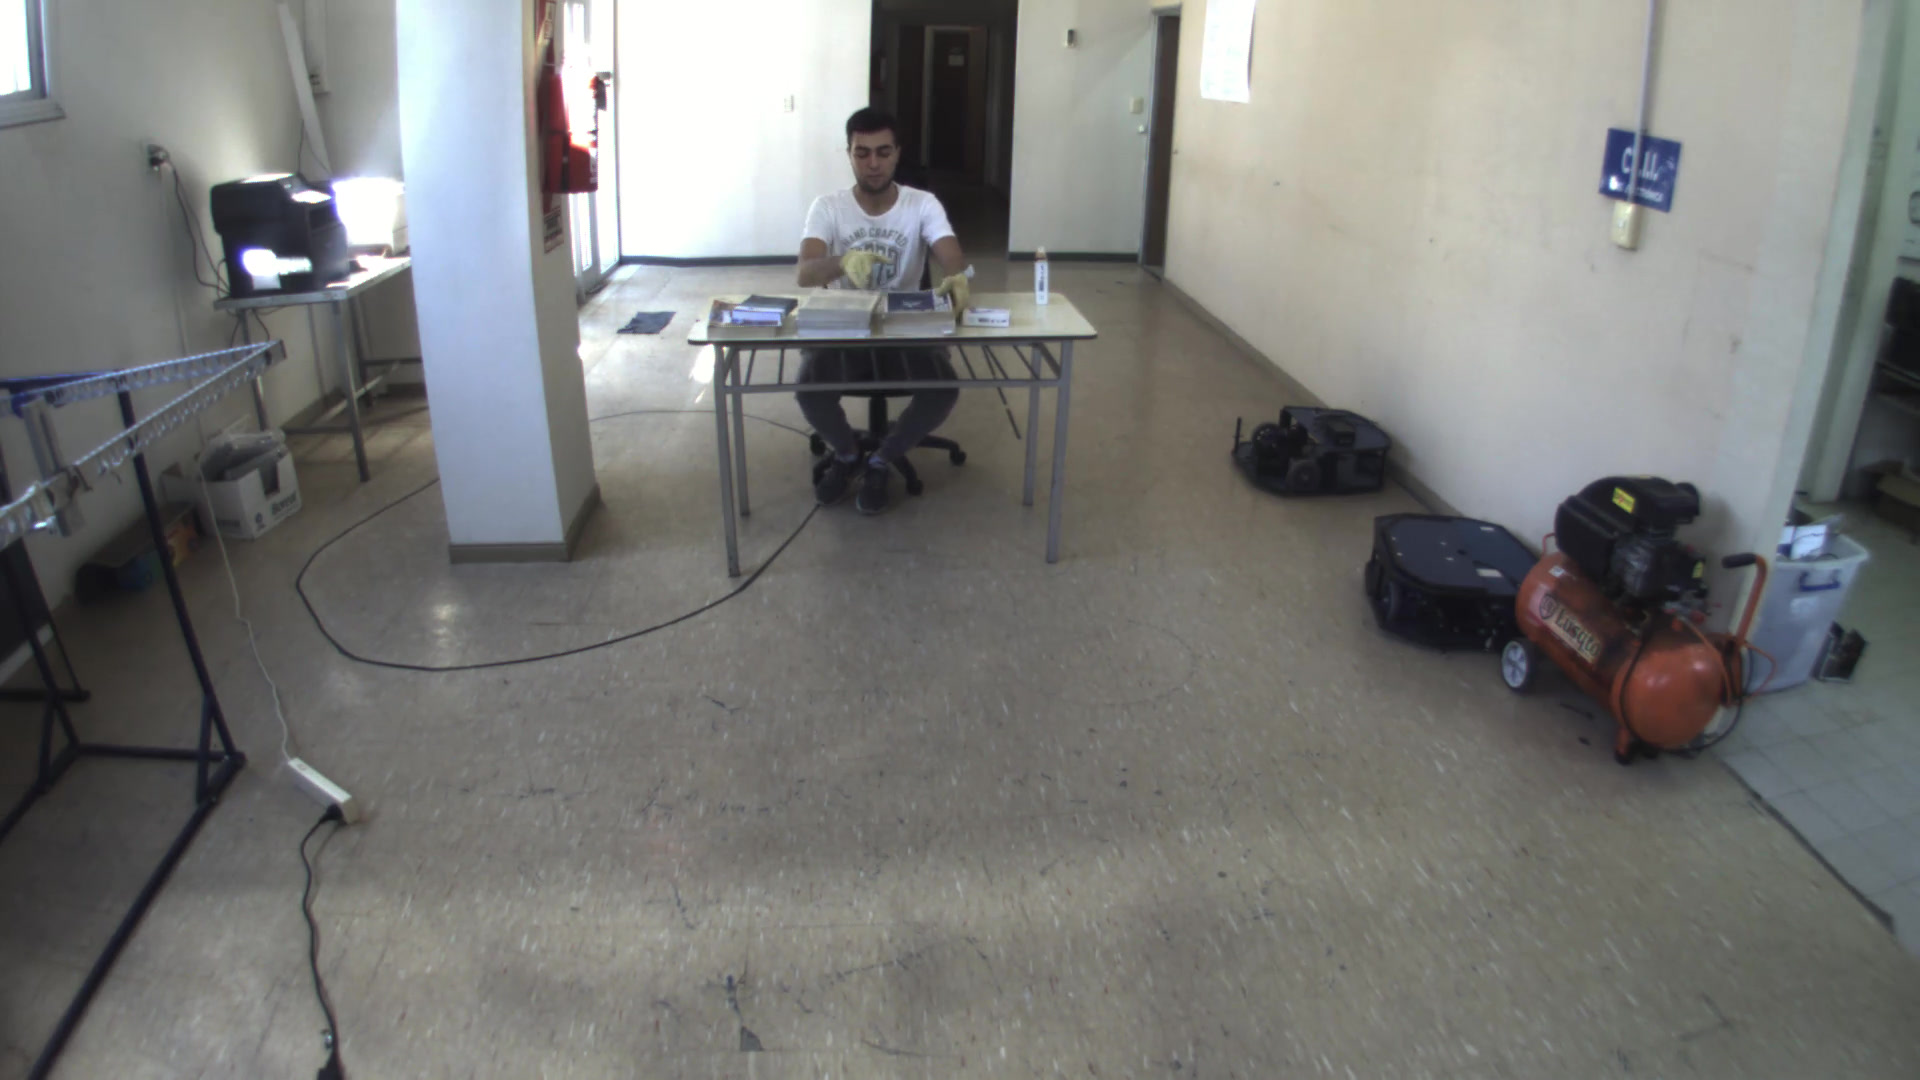hand: (831, 247, 898, 294), (934, 268, 976, 323)
